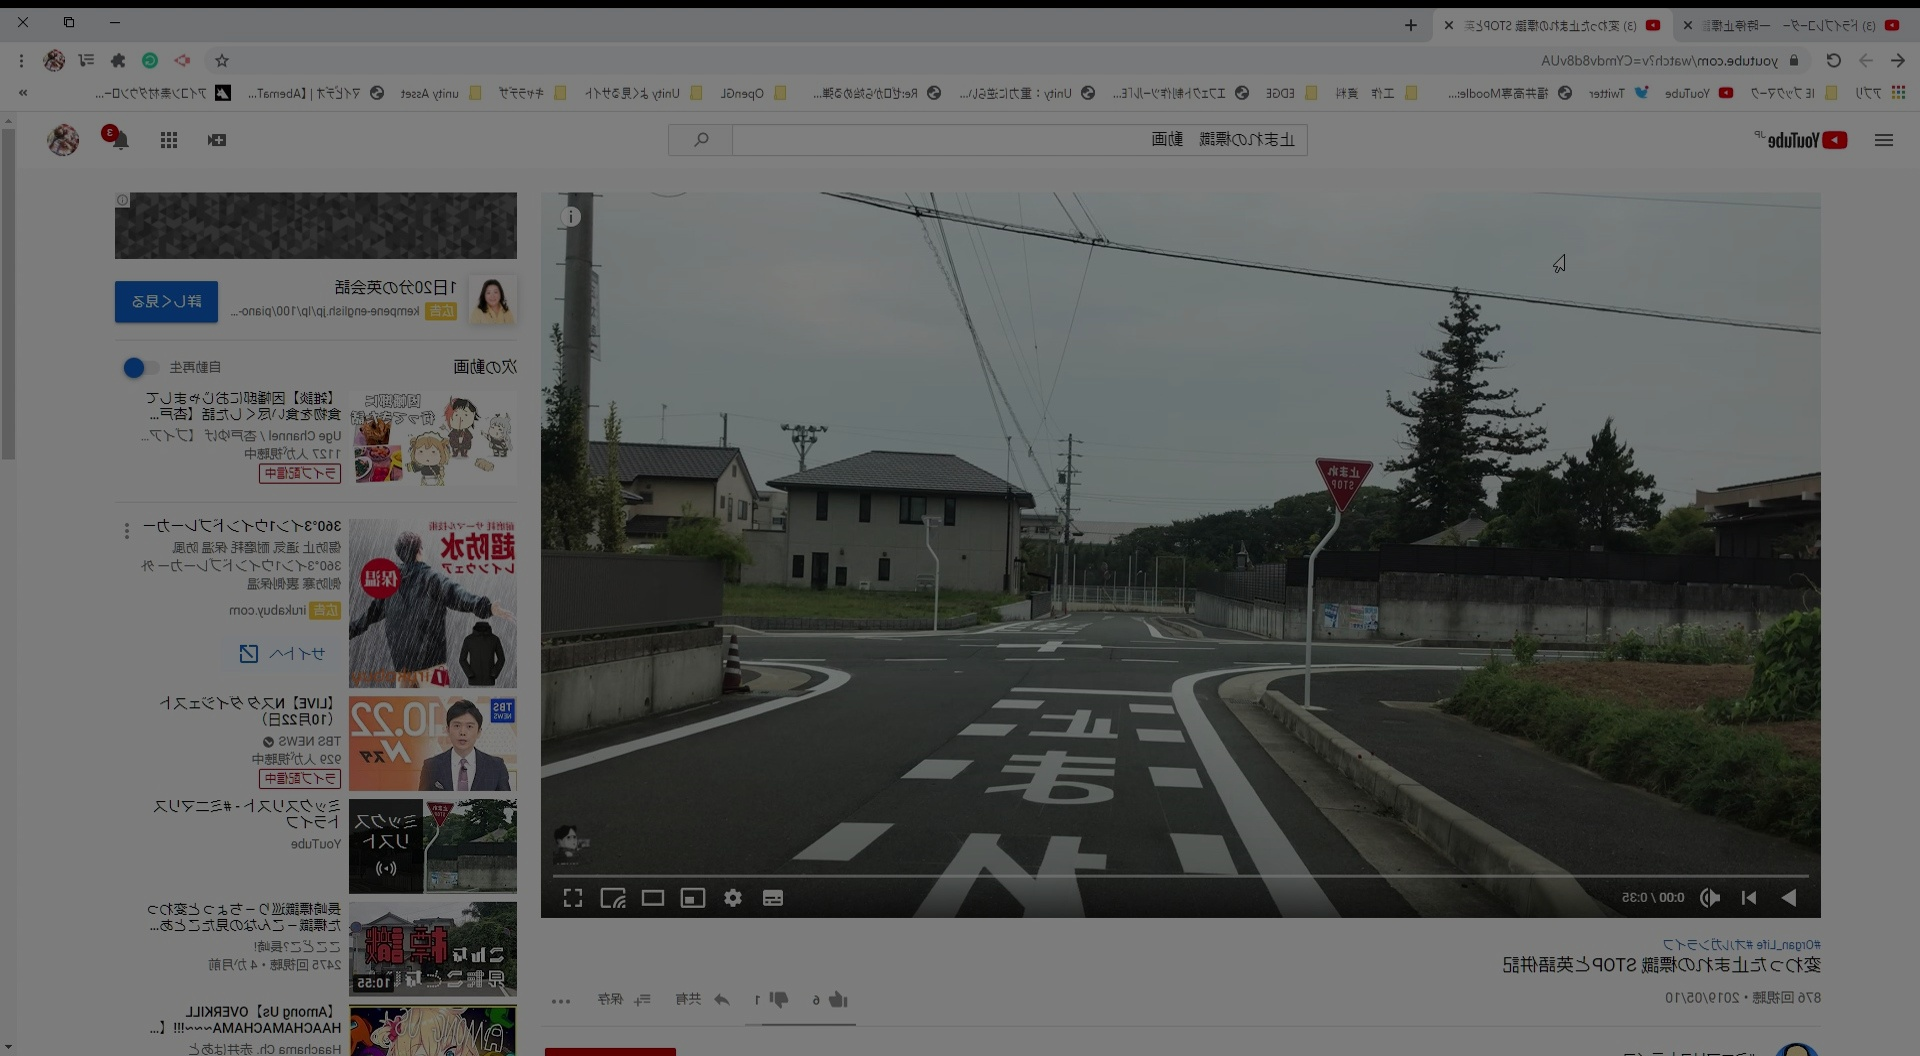Regulatory_sign_triangle: (1319, 449, 1381, 524)
